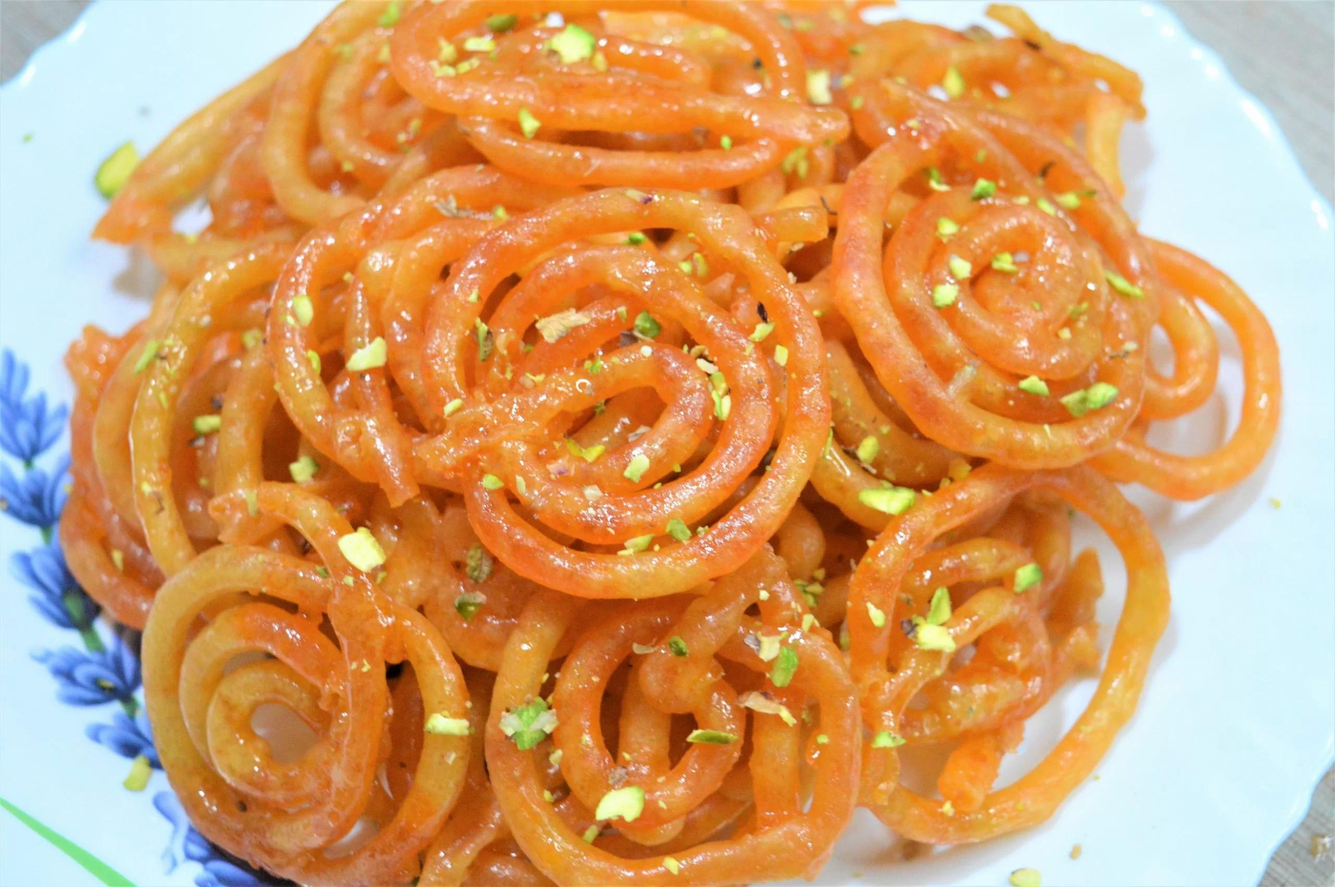Jalebi: (58, 0, 1288, 887)
